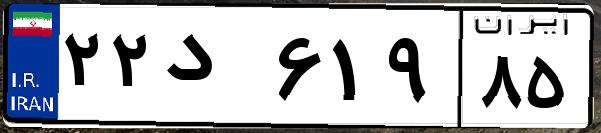1: (330, 28, 385, 110)
2: (57, 26, 110, 100), (110, 28, 158, 98)
5: (525, 38, 570, 115)
6: (270, 28, 330, 110)
8: (475, 38, 525, 113)
9: (385, 28, 445, 110)
د: (158, 20, 270, 120)
